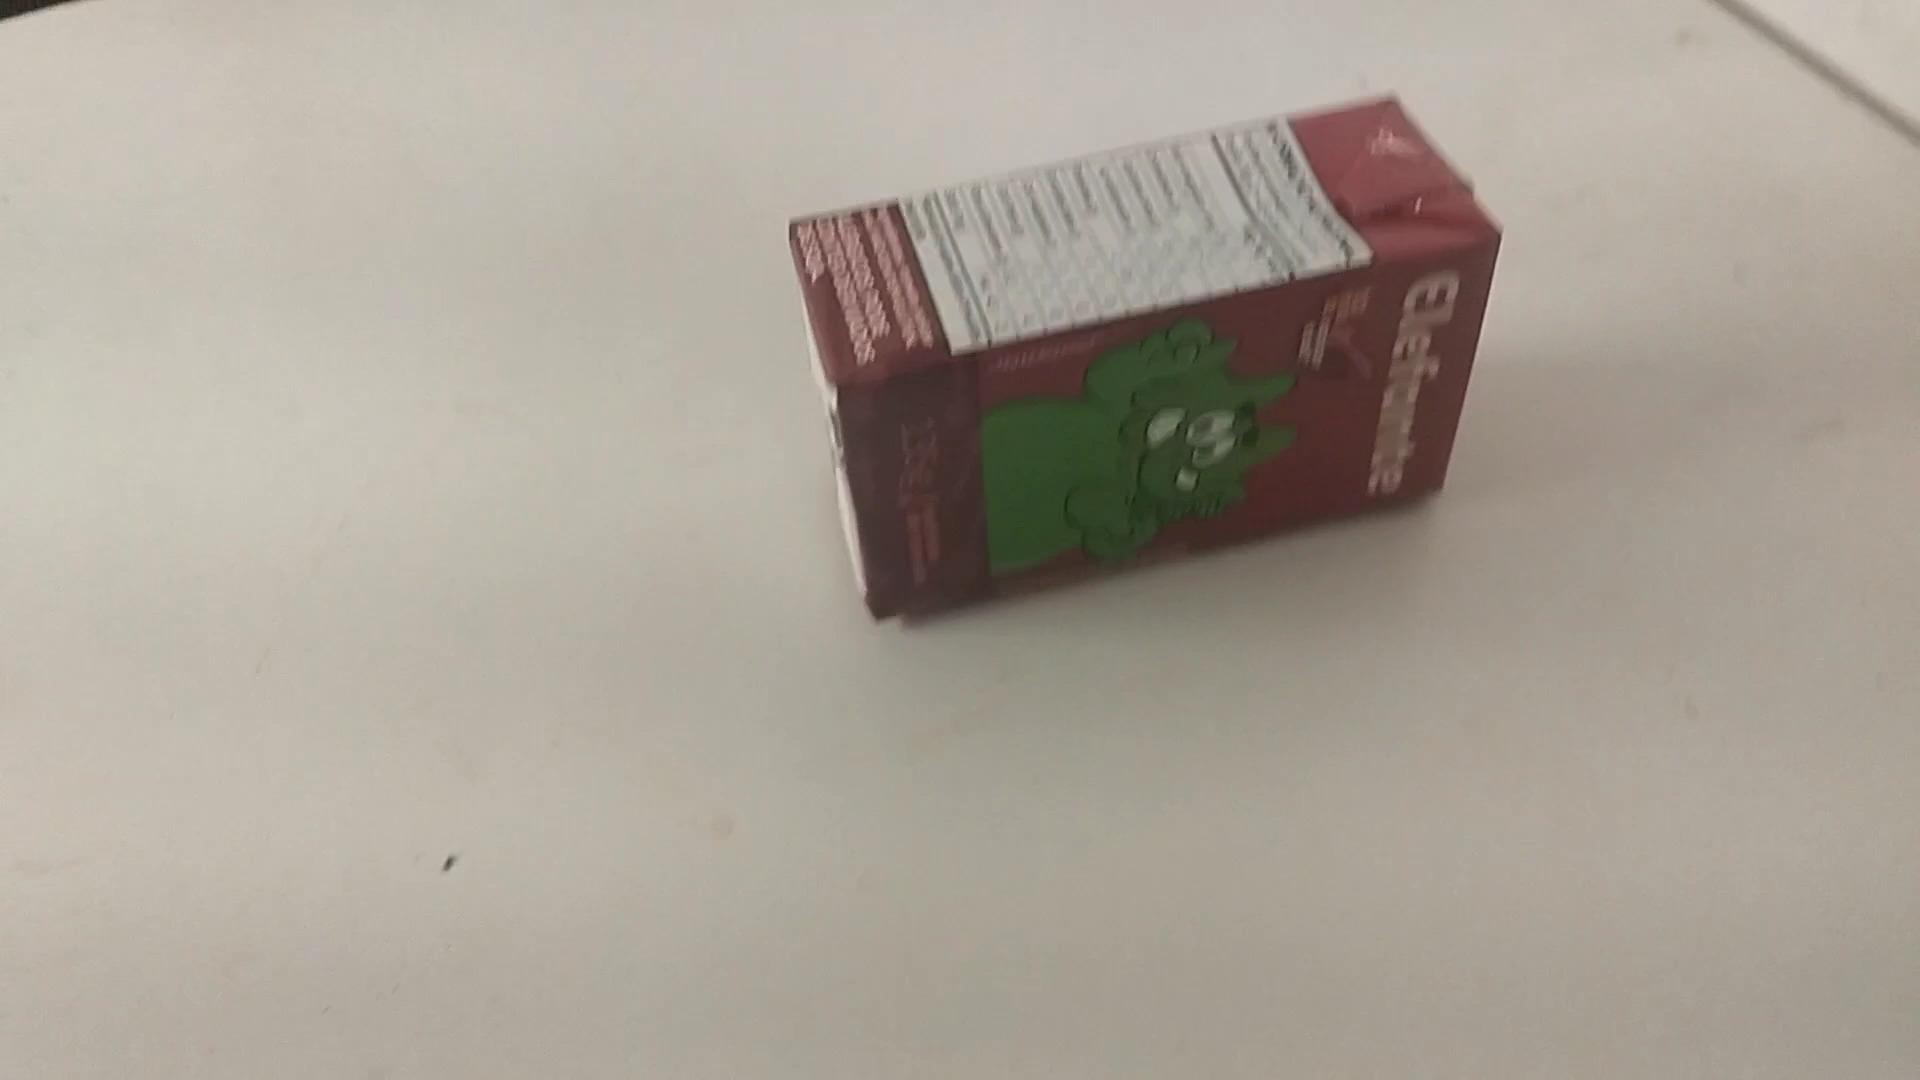tomate: (790, 87, 1499, 632)
